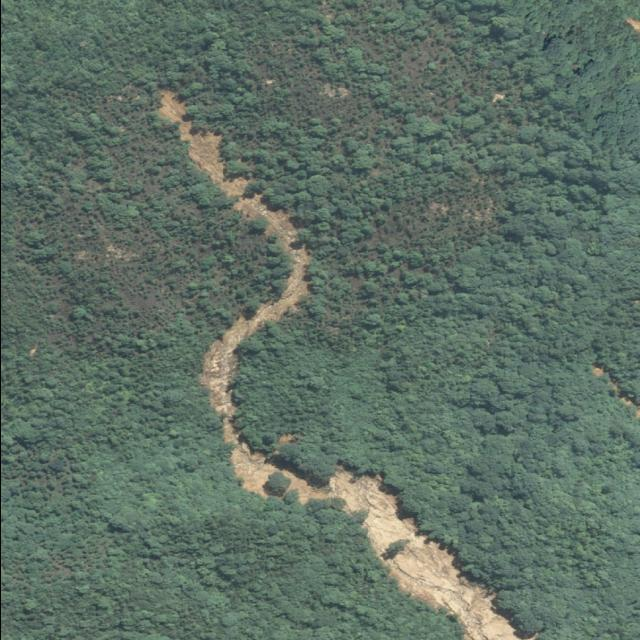landslide: (158, 89, 521, 640)
